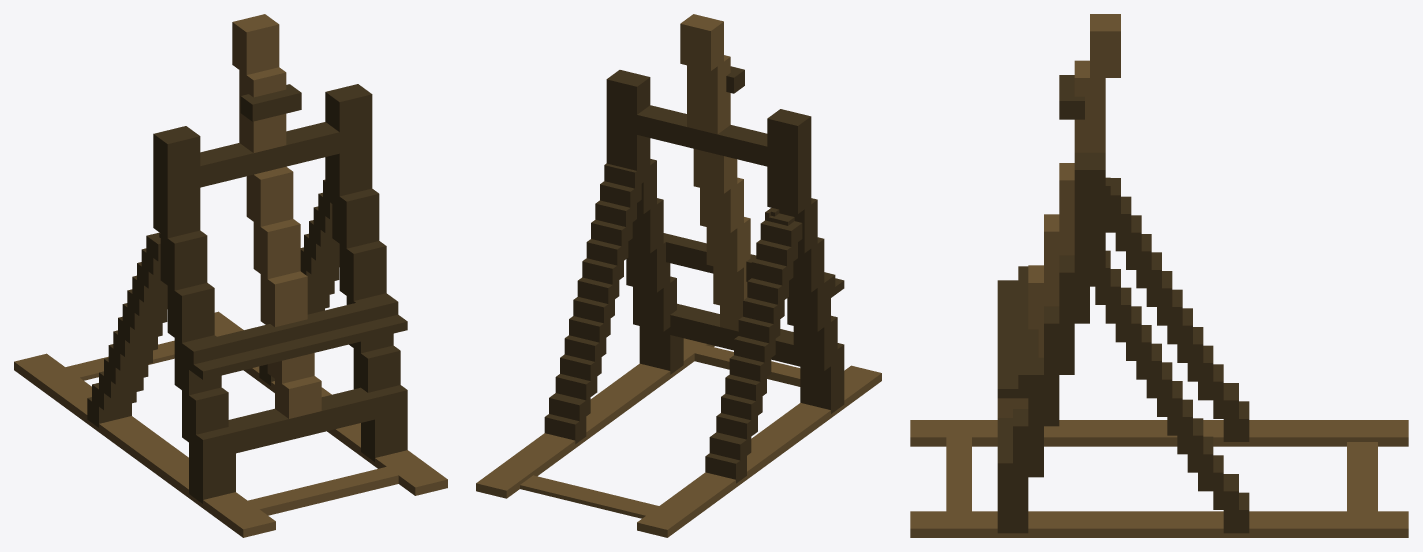
Rendered from Easel.obj.
3 views of the same model, side by side, from view 1: azimuth 30°, elevation 25°; view 2: azimuth 150°, elevation 25°; view 3: azimuth 270°, elevation 25° (orthographic). The views are drawn at different scales.
Bounding box in the file's own units: 50 × 99 × 97.
Materials: 1 (1 with a texture image).
